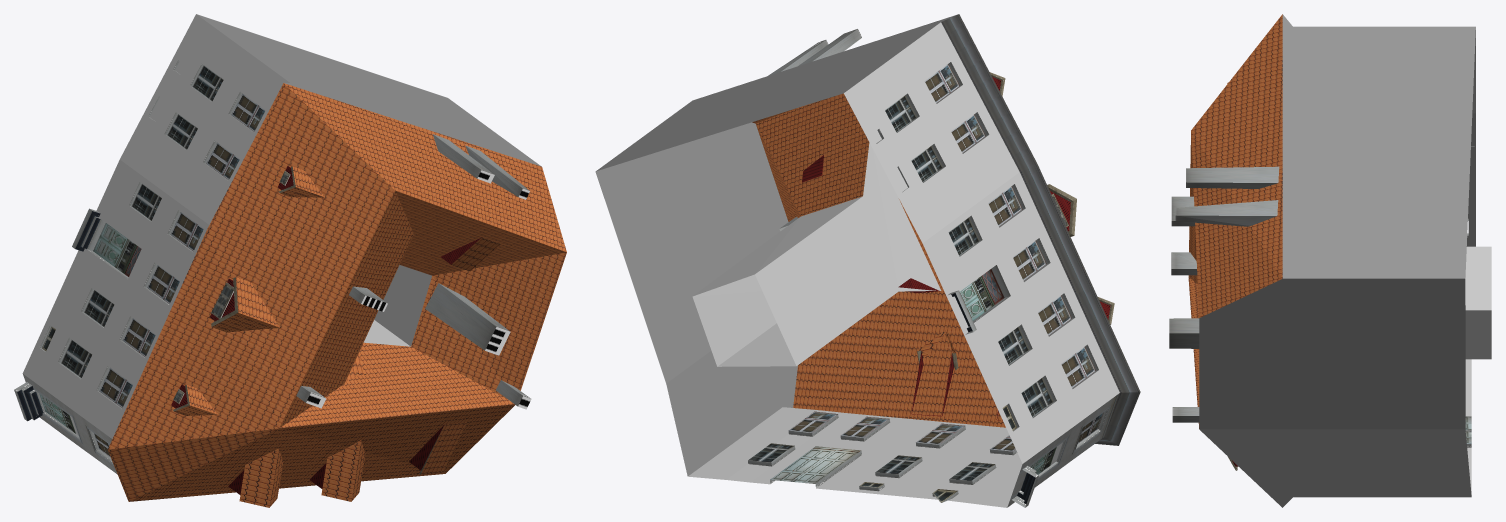
Rendered from Lai_20.obj.
3 views of the same model, side by side, from view 1: azimuth 30°, elevation 25°; view 2: azimuth 150°, elevation 25°; view 3: azimuth 270°, elevation 25° (orthographic). The views are drawn at different scales.
Visible parts, largest first — view 1: Lai_20; view 2: Lai_20; view 3: Lai_20.
Part boxes in pixels (x1,y1,x2,y2): Lai_20: (14,14,566,507); Lai_20: (595,14,1140,507); Lai_20: (1169,14,1491,507).
Bounding box in the file's own units: 24.65 × 23.34 × 16.33.
